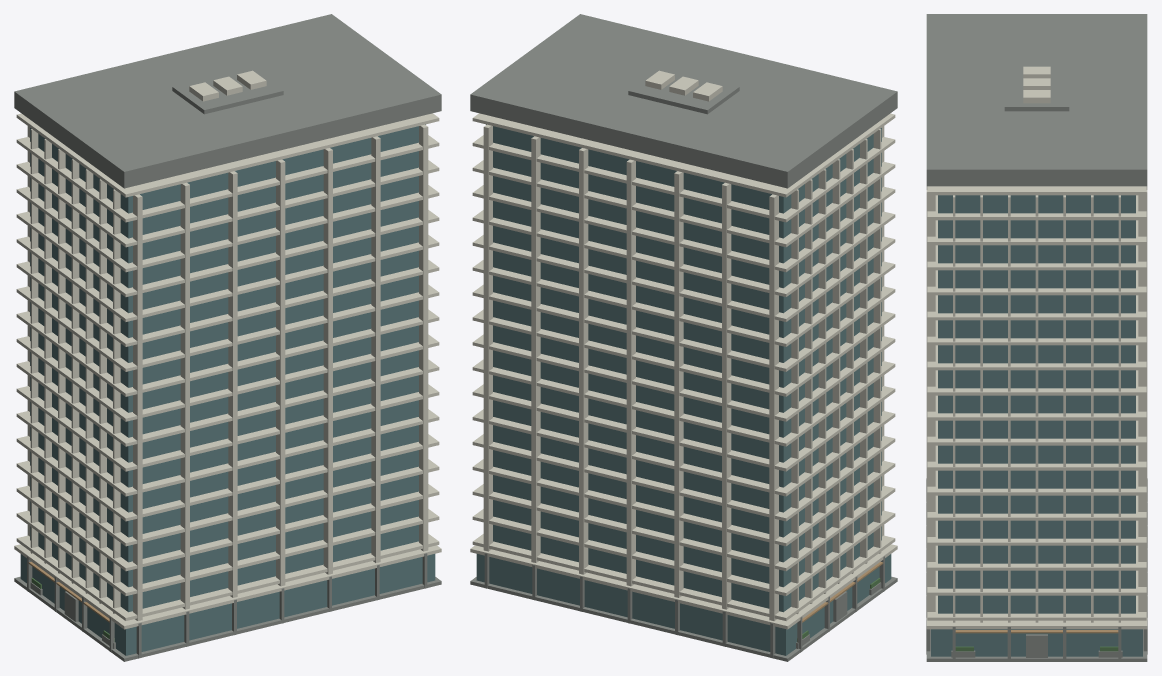
File: architecture-1.glb
3 views of the same model, side by side, from view 1: azimuth 30°, elevation 25°; view 2: azimuth 150°, elevation 25°; view 3: azimuth 270°, elevation 25° (orthographic).
Parts seen in each view (by area): view 1: Architecture_1_0, Architecture_1_1, Architecture_1_2; view 2: Architecture_1_0, Architecture_1_1, Architecture_1_2; view 3: Architecture_1_1, Architecture_1_0, Architecture_1_2, Architecture_1_3.
Part boxes in pixels (bbox=[...]): Architecture_1_0: bbox=[14, 70, 441, 629]; Architecture_1_1: bbox=[20, 124, 435, 655]; Architecture_1_2: bbox=[14, 14, 441, 661]; Architecture_1_0: bbox=[470, 70, 897, 629]; Architecture_1_1: bbox=[476, 124, 891, 655]; Architecture_1_2: bbox=[470, 14, 897, 661]; Architecture_1_1: bbox=[931, 195, 1142, 656]; Architecture_1_0: bbox=[926, 66, 1147, 629]; Architecture_1_2: bbox=[926, 14, 1147, 661]; Architecture_1_3: bbox=[955, 630, 1118, 633].
Bounding box in the file's own units: 40.05 × 60.15 × 24.05.
